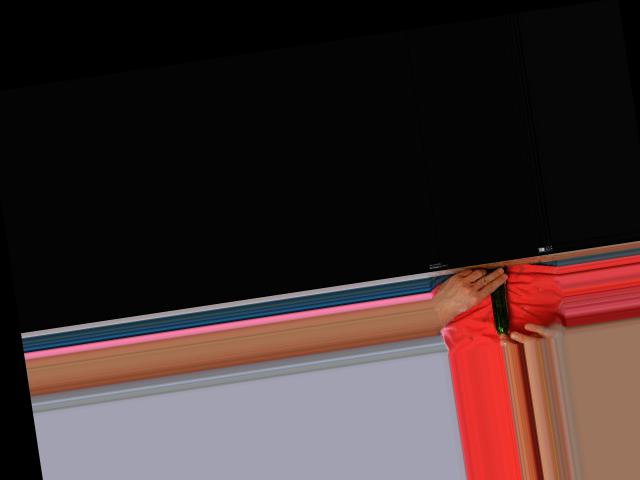cucumber: (487, 282, 511, 335)
